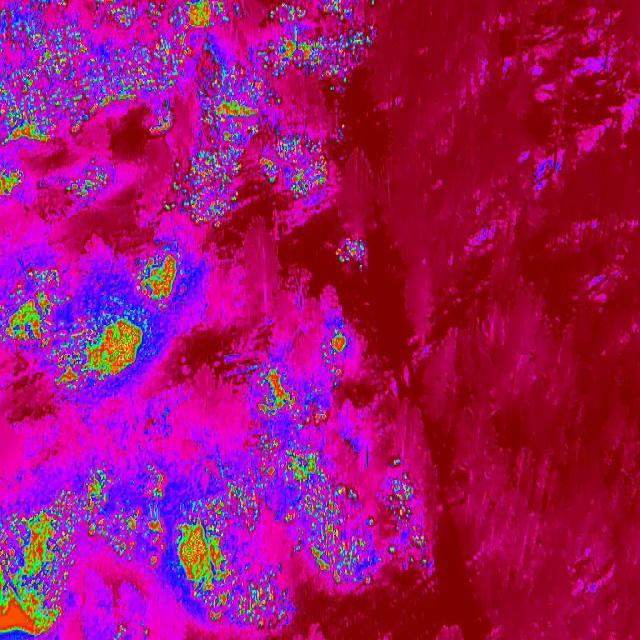fire: (85, 448, 292, 632), (182, 0, 326, 228), (0, 239, 200, 391), (0, 0, 190, 145), (255, 365, 376, 589), (0, 481, 84, 640), (385, 452, 433, 576), (325, 0, 368, 95), (68, 160, 119, 202), (312, 314, 350, 368), (334, 240, 370, 271), (0, 158, 25, 196)
